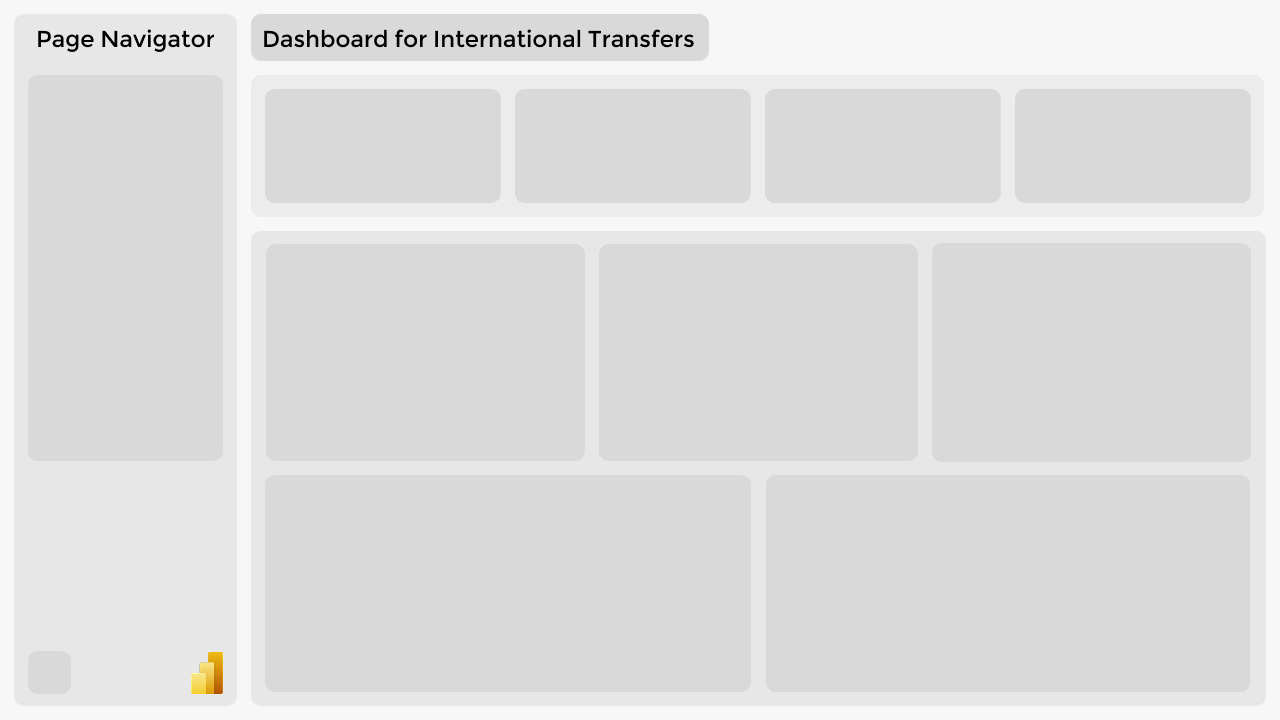

The dashboard page shown, as its layout file describes it:
{"tool":"powerbi","page":{"name":"Overview","canvas":[1280,720],"ordinal":0},"visuals":[{"type":"card","fields":{"Values":["Measures Table.Total Amount"]},"box":[265.6,87.5,235,113.8],"z":0},{"type":"tableEx","fields":{"Values":["Branches.BranchName","Measures Table.Branch Share %"]},"box":[930,240,320.9,221.8],"z":1000},{"type":"card","fields":{"Values":["Measures Table.Net Profit"]},"box":[1015,87.5,235,114.4],"z":2000},{"type":"lineChart","fields":{"Category":["DateTable.Month Year"],"Y":["Measures Table.Net Profit"]},"box":[265.5,473.6,485.5,220.9],"z":3000},{"type":"pieChart","fields":{"Y":["Measures Table.Net Profit","Measures Table.Total Amount"]},"box":[600,240,317.3,221.8],"z":4000},{"type":"map","fields":{"Size":["Measures Table.Branch Profit"],"Category":["Branches.Region"]},"box":[766.4,473.6,484.5,217.3],"z":5000},{"type":"barChart","fields":{"Category":["Branches.BranchName"],"Y":["Measures Table.Branch Profit"]},"box":[265.5,240,320,221.8],"z":6000},{"type":"card","fields":{"Values":["Measures Table.Top Branch Profit"]},"box":[515,87.5,235,114.4],"z":7000},{"type":"card","fields":{"Values":["Measures Table.Avg Profit per Transaction"]},"box":[765,87.5,235,115],"z":8000},{"type":"pageNavigator","box":[35.6,85.9,179.1,201.2],"z":9000},{"type":"image","box":[27.5,651.7,44.2,40.8],"z":10000}]}

Visuals, with their boxes in screenshot pixels (x1, y1, x2, y2), scaled from the page's 1280x720 canvas onto the 1280x720 screenshot:
card - Measures Table.Total Amount: (266,88,501,201)
tableEx - Branches.BranchName x Measures Table.Branch Share %: (930,240,1251,462)
card - Measures Table.Net Profit: (1015,88,1250,202)
lineChart - DateTable.Month Year x Measures Table.Net Profit: (266,474,751,694)
pieChart - Measures Table.Net Profit x Measures Table.Total Amount: (600,240,917,462)
map - Measures Table.Branch Profit x Branches.Region: (766,474,1251,691)
barChart - Branches.BranchName x Measures Table.Branch Profit: (266,240,586,462)
card - Measures Table.Top Branch Profit: (515,88,750,202)
card - Measures Table.Avg Profit per Transaction: (765,88,1000,202)
pageNavigator: (36,86,215,287)
image: (28,652,72,692)
